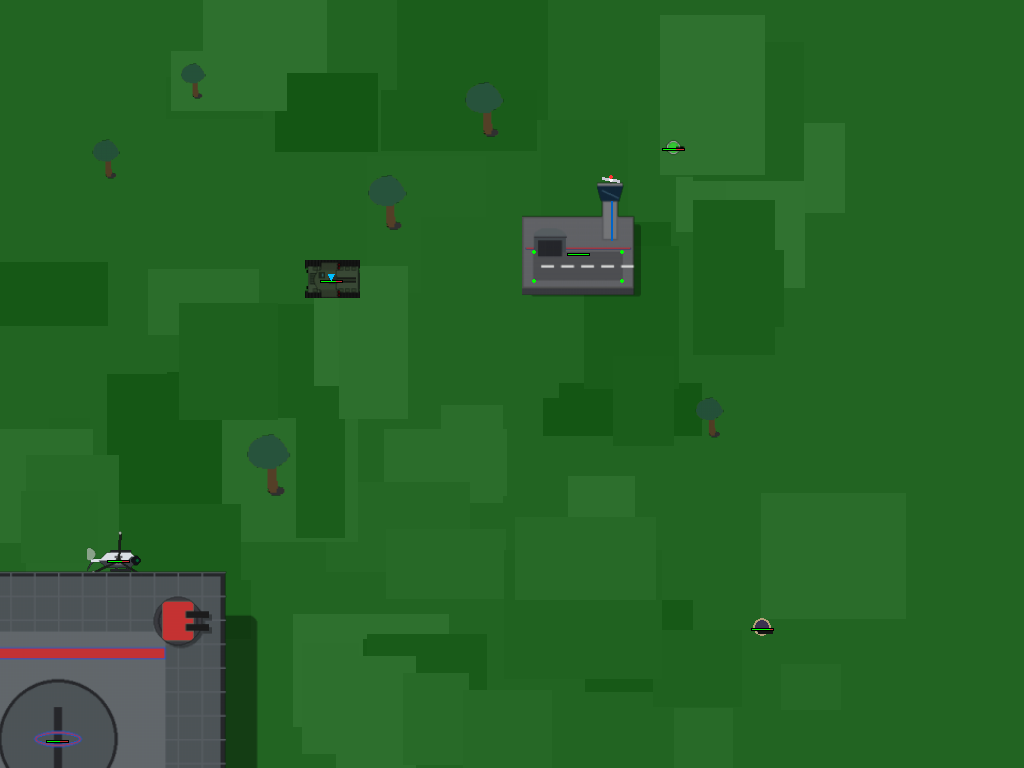Airfield: (524, 198, 631, 305)
Bastion: (0, 542, 393, 768)
Helicopter: (100, 541, 135, 576)
Rifleman: (657, 131, 688, 162)
RocketTrooper: (746, 611, 778, 643)
TerminatorIFV: (308, 255, 354, 301)
